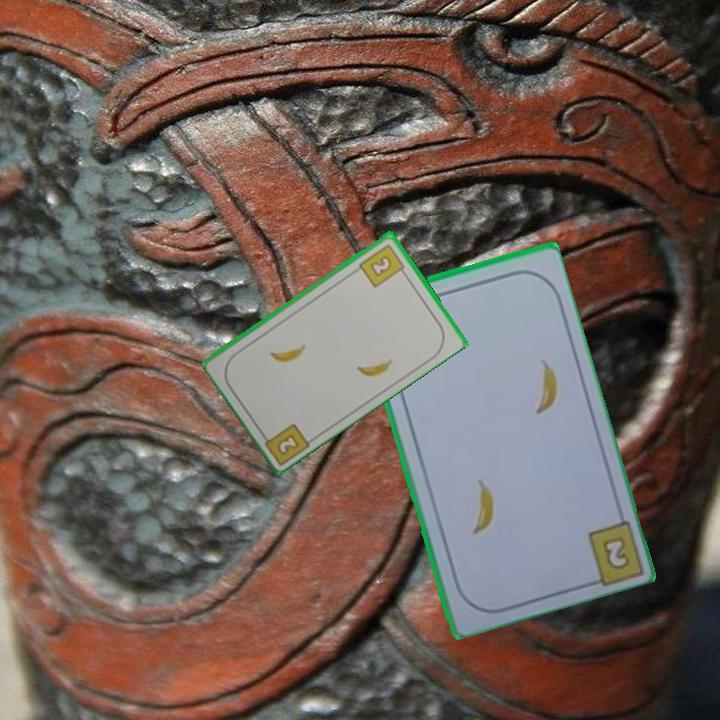2b: (356, 240, 409, 290), (598, 532, 633, 573), (273, 430, 302, 458)
